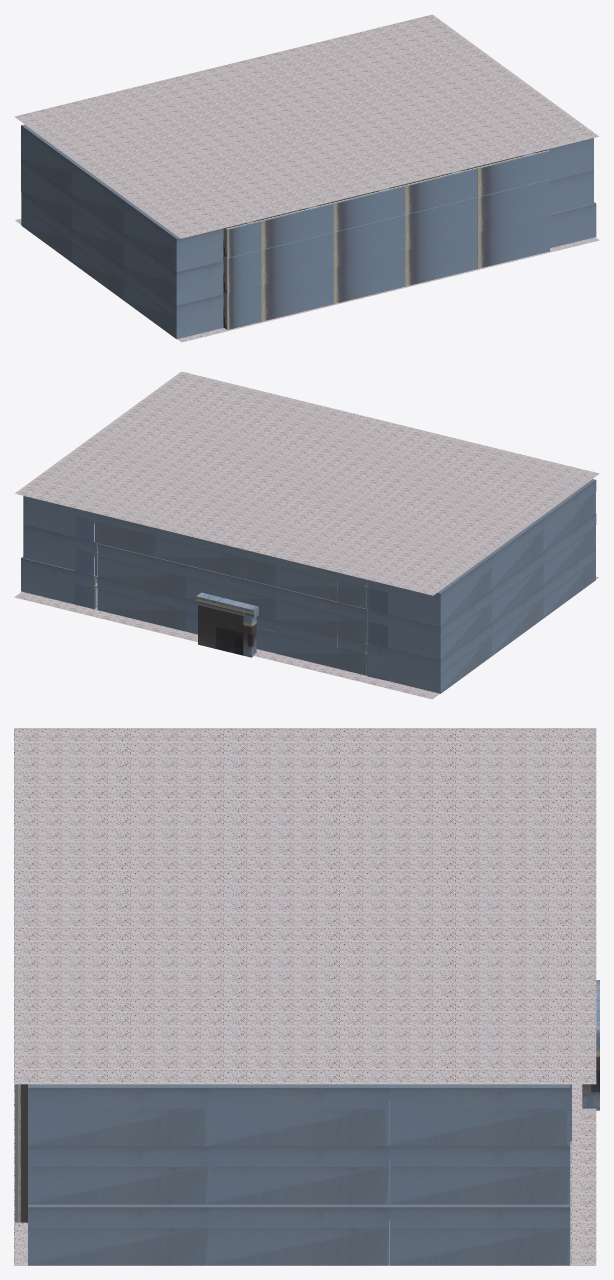
Rendered from level2school.fbx.
The picture shows the model from 3 angles, top to bottom: view 1: azimuth 30°, elevation 25°; view 2: azimuth 150°, elevation 25°; view 3: azimuth 270°, elevation 25°; orthographic projection. The views are drawn at different scales.
Parts seen in each view (by area): view 1: ceiling, fake wall, building6, building7, building1, building2, floor; view 2: ceiling, building6, building5, building4, building7, building3, building1, building8, building2, floor; view 3: ceiling, building1, building2, floor, fake wall, building5.
Part boxes in pixels (x1,y1,x2,y2): ceiling: [14, 14, 598, 238]; fake wall: [223, 149, 549, 329]; building6: [21, 124, 223, 305]; building7: [21, 192, 223, 339]; building1: [547, 138, 593, 214]; building2: [550, 202, 596, 248]; floor: [15, 219, 599, 342]; ceiling: [15, 371, 599, 595]; building6: [364, 479, 596, 660]; building5: [97, 576, 366, 675]; building4: [98, 543, 367, 648]; building7: [364, 547, 595, 693]; building3: [96, 513, 246, 579]; building1: [23, 496, 97, 575]; building8: [216, 543, 366, 608]; building2: [21, 516, 97, 609]; floor: [14, 576, 598, 699]; ceiling: [14, 728, 596, 1084]; building1: [28, 1084, 570, 1204]; building2: [28, 1159, 570, 1265]; floor: [14, 1084, 596, 1265]; fake wall: [15, 1084, 27, 1222]; building5: [582, 980, 599, 1110].
Size of the model in its own units: 11910 by 2851 by 8253.
